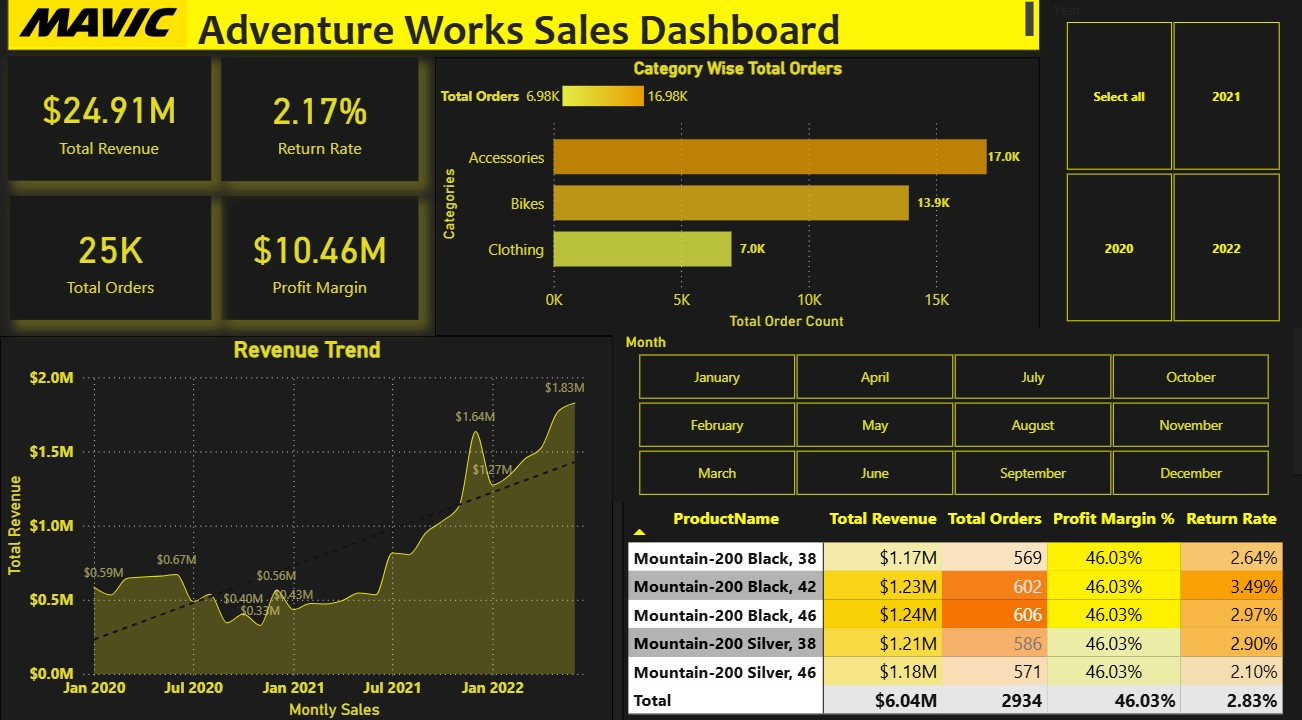

The page's visual inventory and layout, read from the dashboard file:
{"tool":"powerbi","page":{"name":"Dashboard","canvas":[1280,720],"ordinal":5},"visuals":[{"type":"textbox","box":[7.5,5,1025,53.8],"z":0},{"type":"lineChart","title":"Revenue Trend","fields":{"Y":["Measure_Table.Total Revenue"],"Category":["Calendar Lookup.Date.Variation.Date Hierarchy.Year","Calendar Lookup.Date.Variation.Date Hierarchy.Month"]},"box":[0,338.3,601.7,381.7],"z":1000},{"type":"clusteredBarChart","title":"Category Wise Total Orders","fields":{"Category":["Product Categories Lookup.CategoryName"],"Y":["Measure_Table.Total Orders"]},"box":[426.7,65,593.3,273.3],"z":2000},{"type":"card","fields":{"Values":["Measure_Table.Total Revenue"]},"box":[7.5,63.8,200,122.5],"z":3000},{"type":"card","fields":{"Values":["Measure_Table.Profit Margin"]},"box":[217.5,201.2,193.8,121.2],"z":4000},{"type":"card","fields":{"Values":["Measure_Table.Total Orders"]},"box":[10,201.2,197.5,121.2],"z":5000},{"type":"card","fields":{"Values":["Measure_Table.Return Rate"]},"box":[217.5,65,193.8,121.2],"z":6000},{"type":"pivotTable","title":"Top 10 Products","fields":{"Rows":["Product Lookup.ProductName"],"Values":["Measure_Table.Total Revenue","Measure_Table.Total Orders","Measure_Table.Profit Margin %","Measure_Table.Return Rate"]},"box":[611.2,475,668.8,245],"z":7000},{"type":"image","box":[0,0,192.5,62.5],"z":8000},{"type":"slicer","fields":{"Values":["Calendar Lookup.Date.Variation.Date Hierarchy.Year"]},"box":[1032.5,5,247.5,317.5],"z":9000},{"type":"slicer","fields":{"Values":["Calendar Lookup.Date.Variation.Date Hierarchy.Month"]},"box":[601.7,331.7,668.3,170],"z":10000}]}

Visuals, with their boxes in screenshot pixels (x1, y1, x2, y2), scaled from the page's 1280x720 canvas onto the 1302x720 screenshot:
textbox: bbox=(8, 5, 1050, 59)
"Revenue Trend" lineChart: bbox=(0, 338, 612, 719)
"Category Wise Total Orders" clusteredBarChart: bbox=(434, 65, 1038, 338)
card - Measure_Table.Total Revenue: bbox=(8, 64, 211, 186)
card - Measure_Table.Profit Margin: bbox=(221, 201, 418, 322)
card - Measure_Table.Total Orders: bbox=(10, 201, 211, 322)
card - Measure_Table.Return Rate: bbox=(221, 65, 418, 186)
"Top 10 Products" pivotTable: bbox=(622, 475, 1301, 719)
image: bbox=(0, 0, 196, 62)
slicer - Calendar Lookup.Date.Variation.Date Hierarchy.Year: bbox=(1050, 5, 1301, 322)
slicer - Calendar Lookup.Date.Variation.Date Hierarchy.Month: bbox=(612, 332, 1292, 502)
